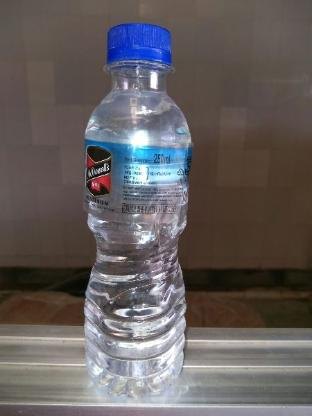Plastic Bottle: (78, 12, 200, 406)
